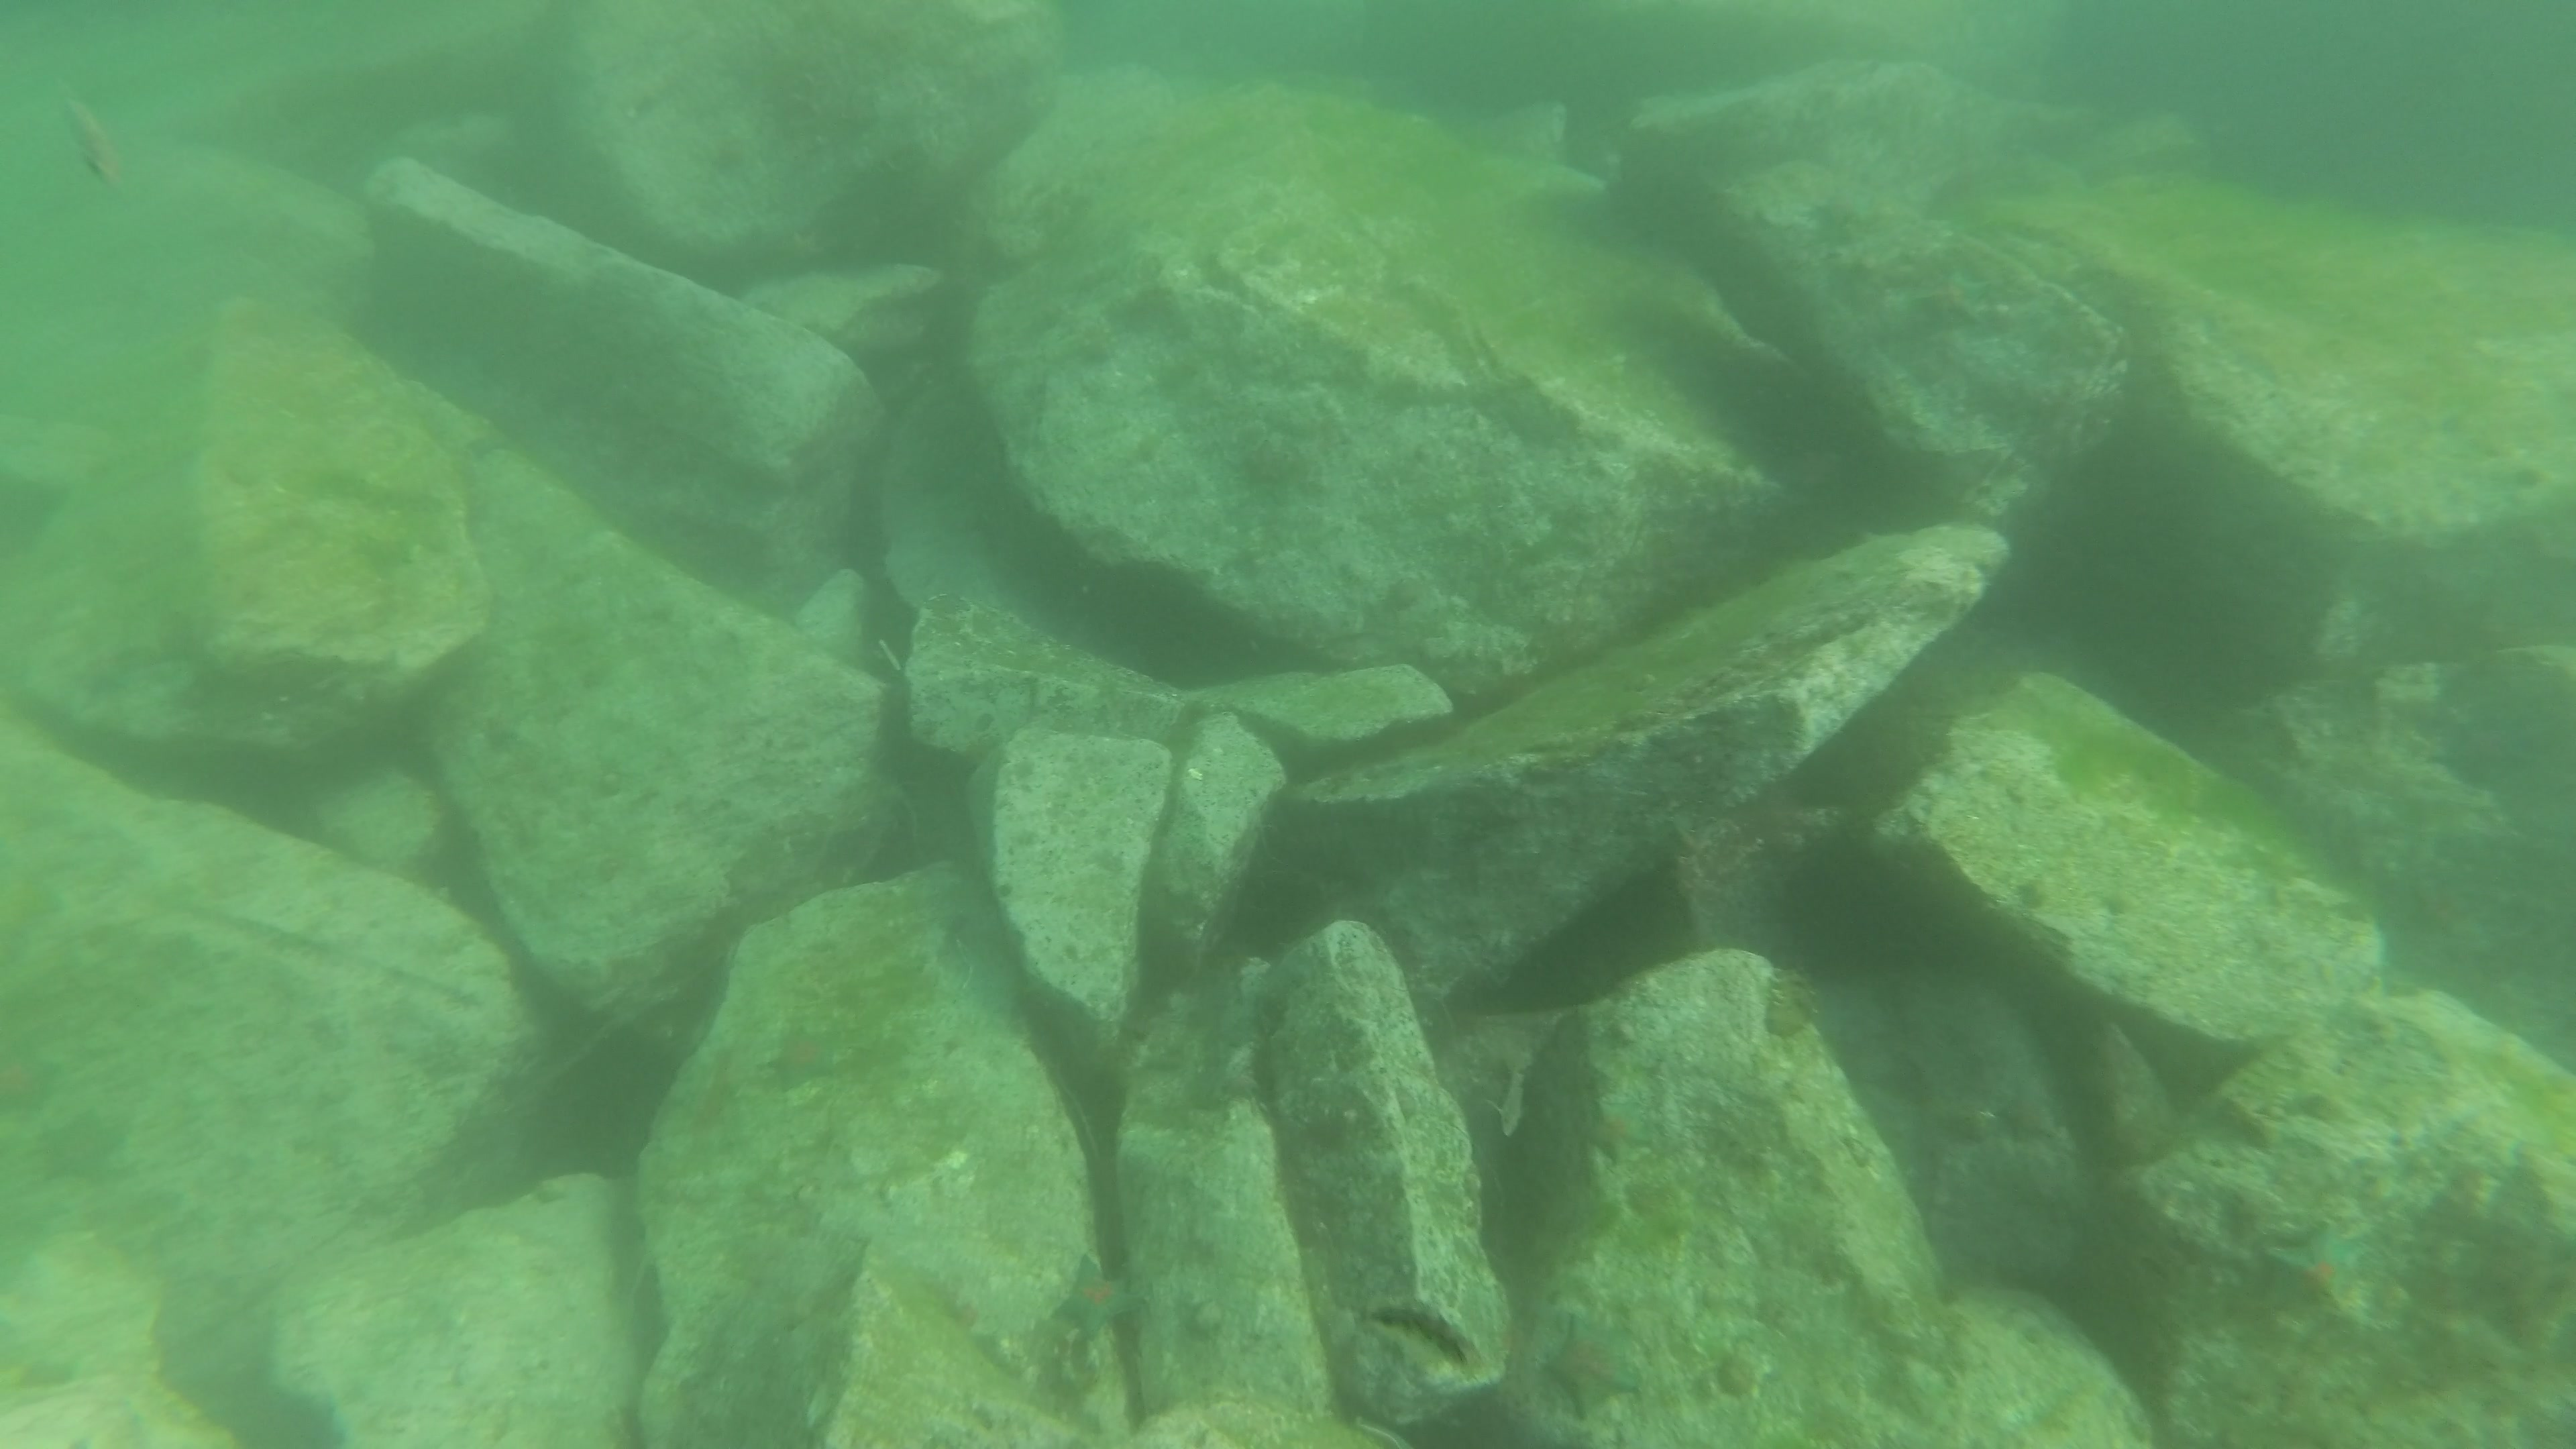starfish: (1537, 1313, 1649, 1417), (2268, 1224, 2374, 1323), (1054, 1254, 1143, 1339), (757, 1028, 842, 1093)
